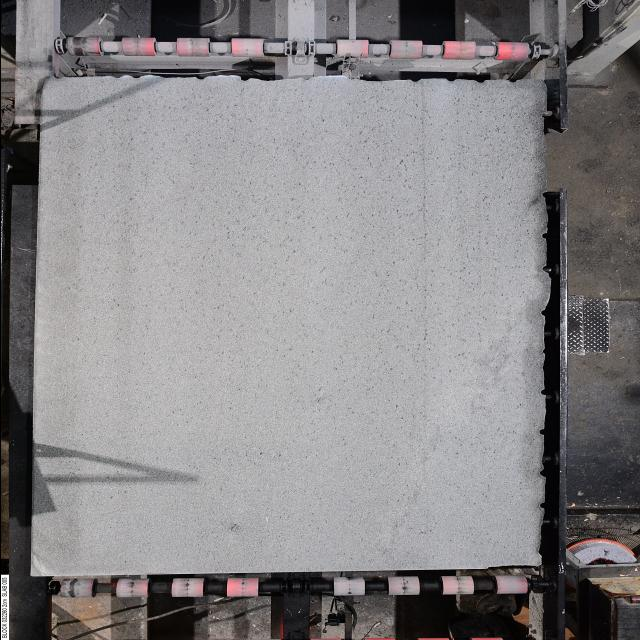chapa: (32, 76, 549, 575)
veio: (537, 468, 547, 482), (538, 308, 550, 318), (236, 74, 250, 82), (538, 388, 548, 398), (540, 231, 550, 240), (537, 428, 548, 436)
